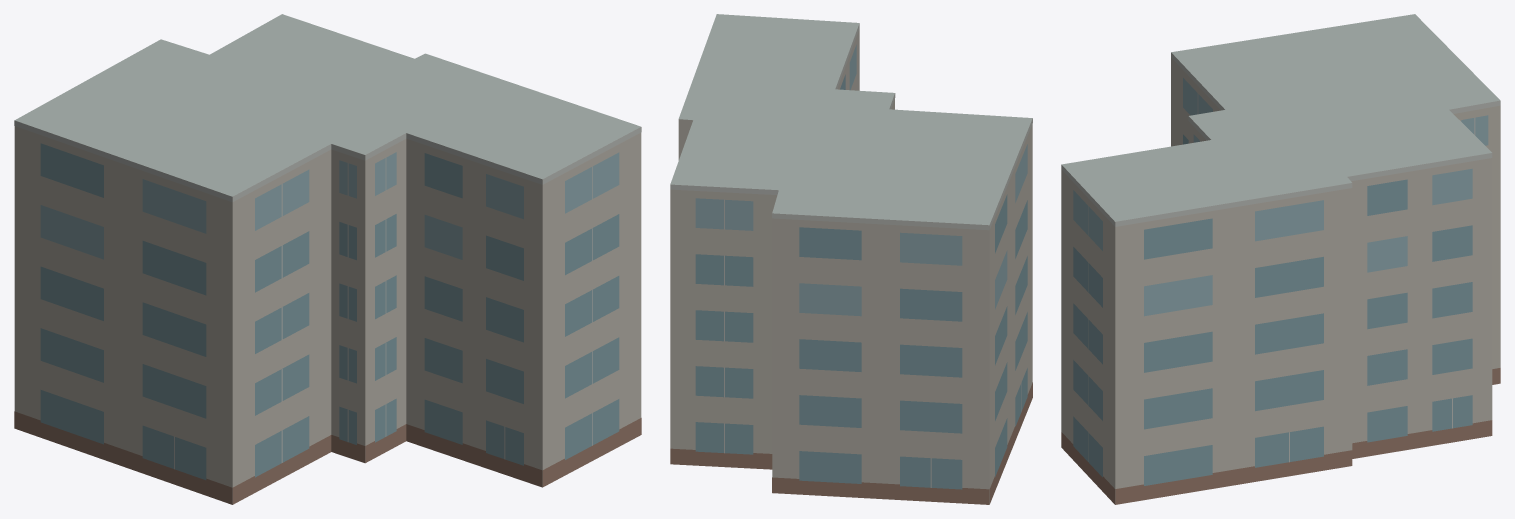
File: survey-upis-33046118.glb
3 renders of one model, left to right at view 1: azimuth 30°, elevation 25°; view 2: azimuth 150°, elevation 25°; view 3: azimuth 270°, elevation 25°, orthographic. The views are drawn at different scales.
Visible parts, largest first — view 1: survey-upis-33046118.tmp; view 2: survey-upis-33046118.tmp; view 3: survey-upis-33046118.tmp.
Part boxes in pixels (left/top/right/bottom): survey-upis-33046118.tmp: left=14, top=14, right=641, bottom=504; survey-upis-33046118.tmp: left=670, top=14, right=1032, bottom=504; survey-upis-33046118.tmp: left=1061, top=14, right=1500, bottom=504.
Bounding box in the file's own units: 21.35 × 13.55 × 19.06.
